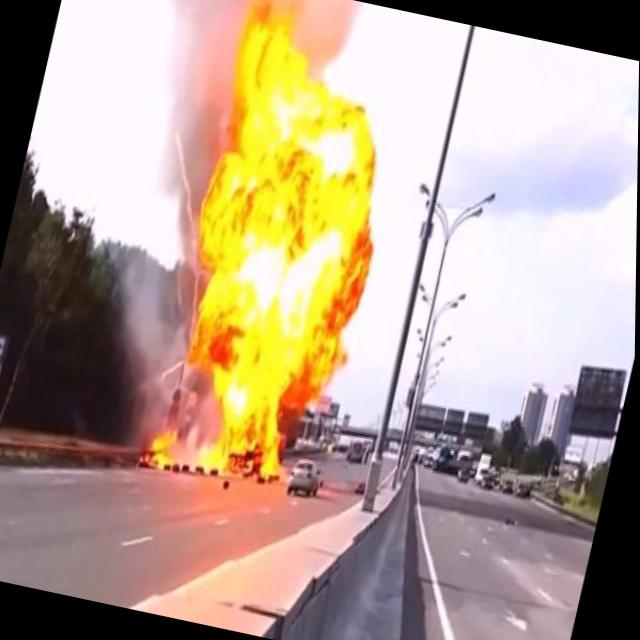fire: (125, 0, 424, 508)
